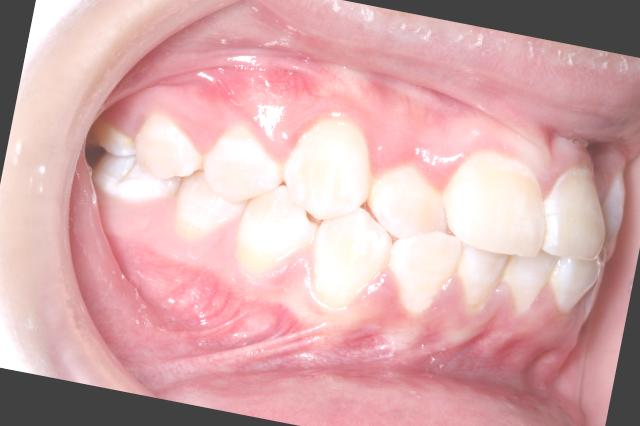canine class I: (222, 93, 416, 332)
